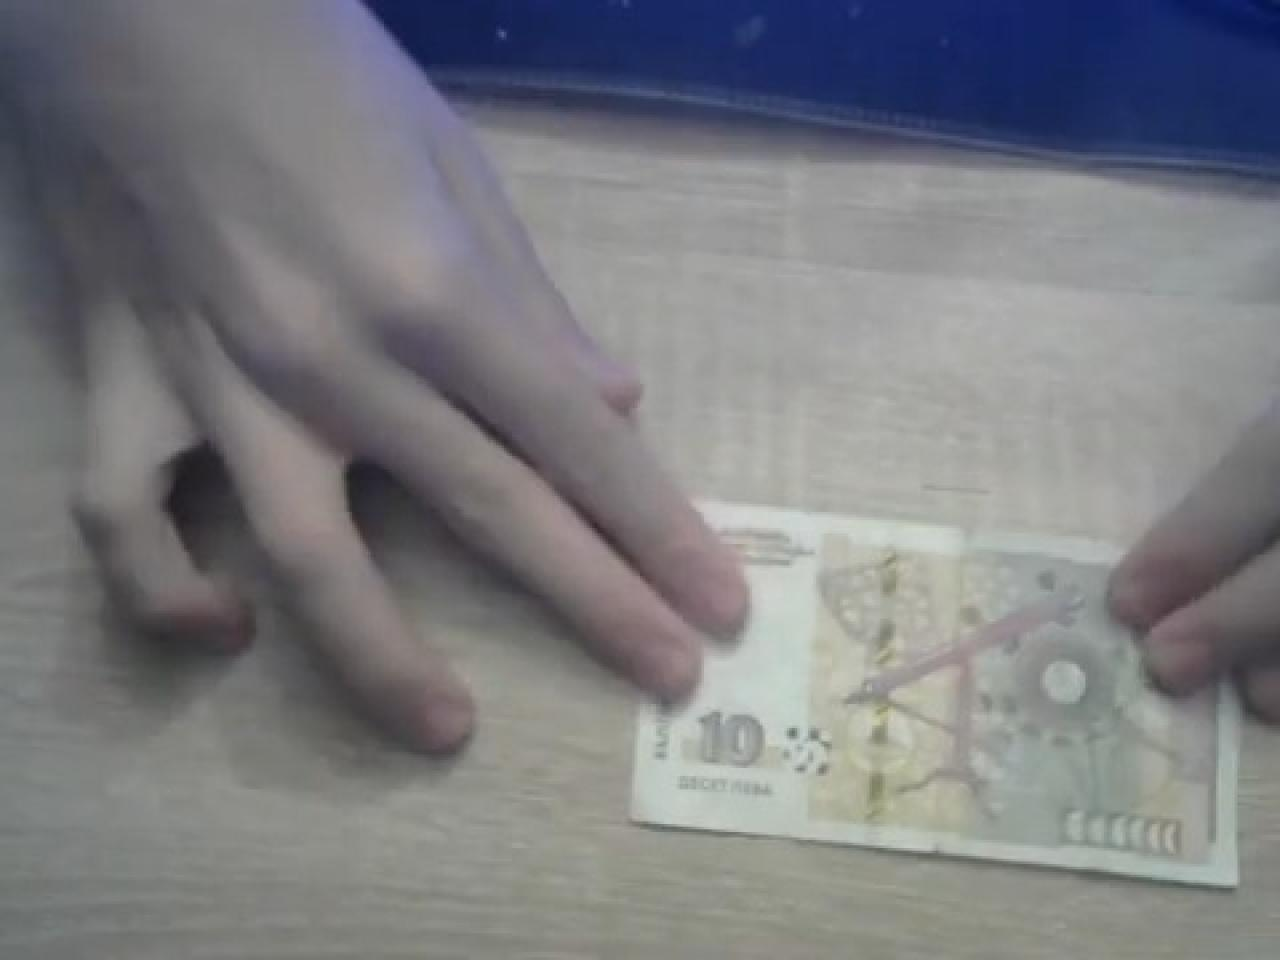10leva: (629, 506, 1232, 885)
